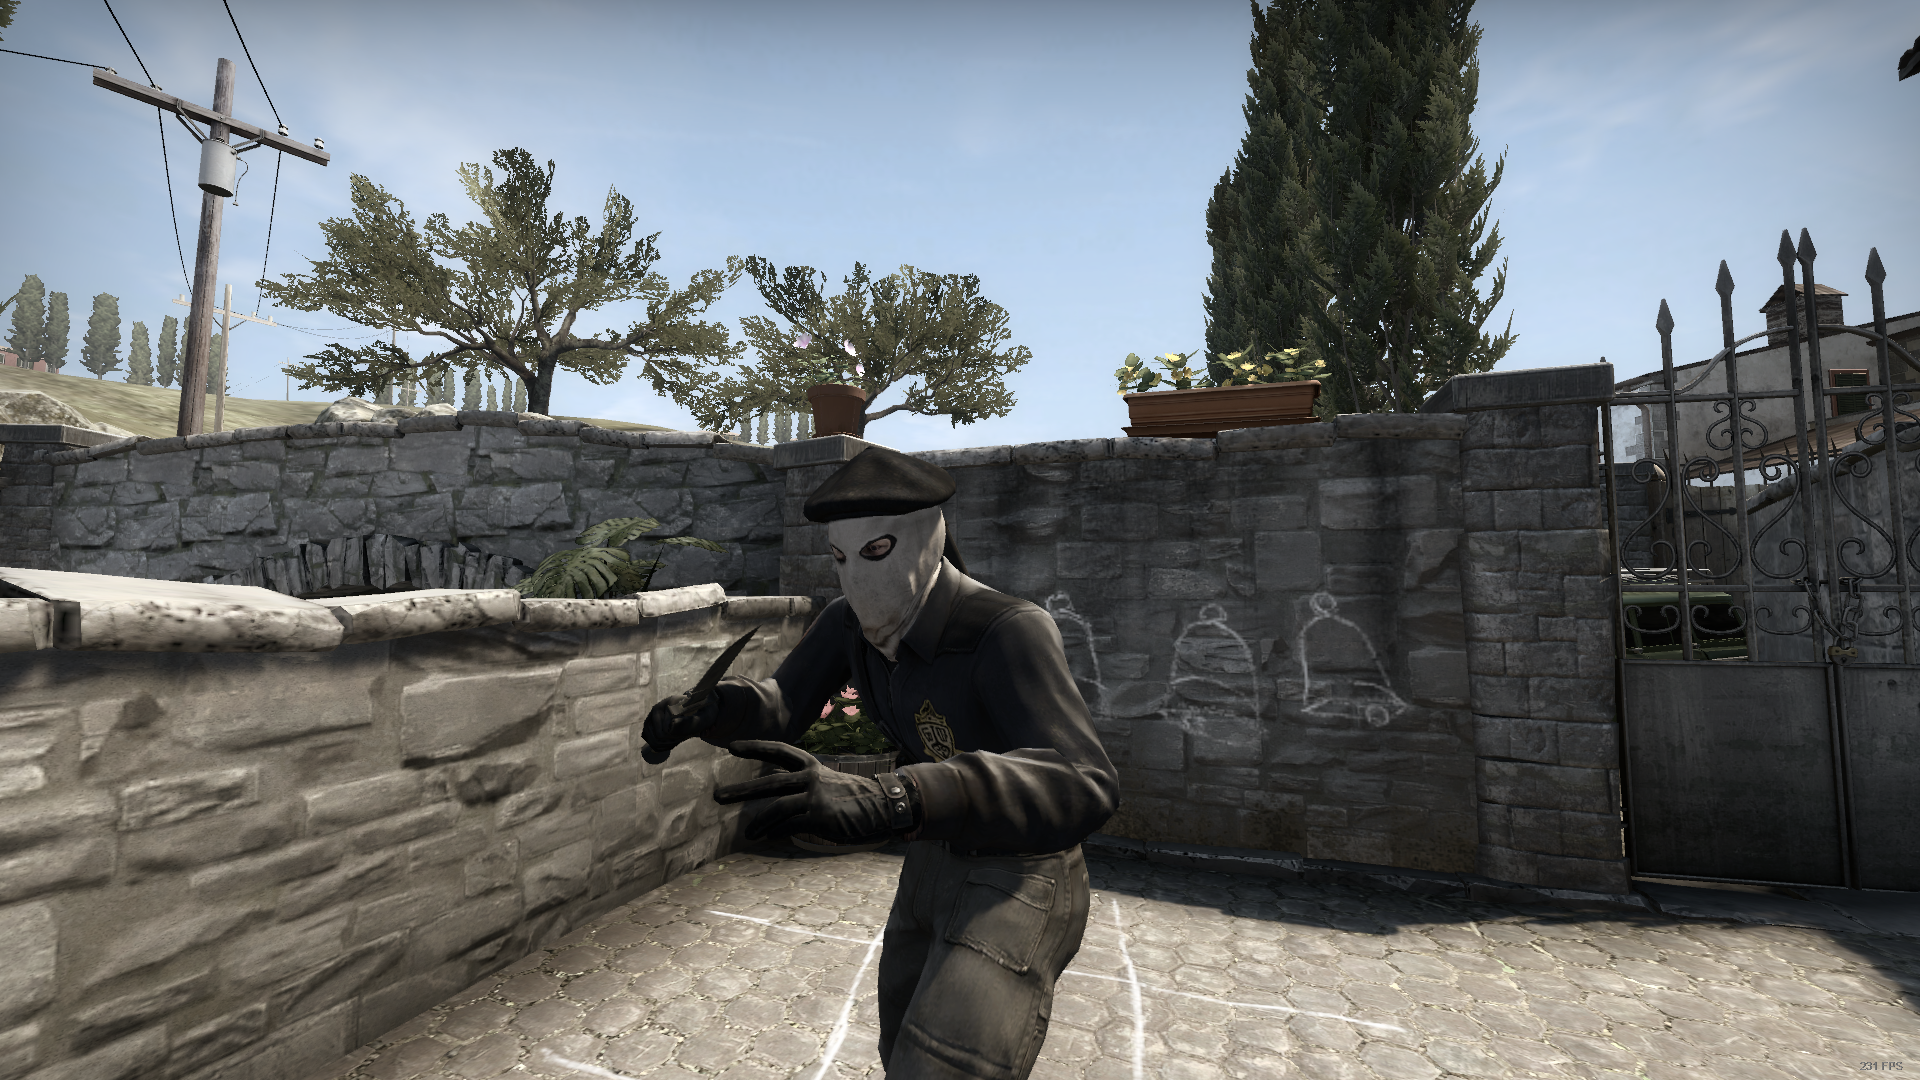t: (641, 446, 1118, 1080)
